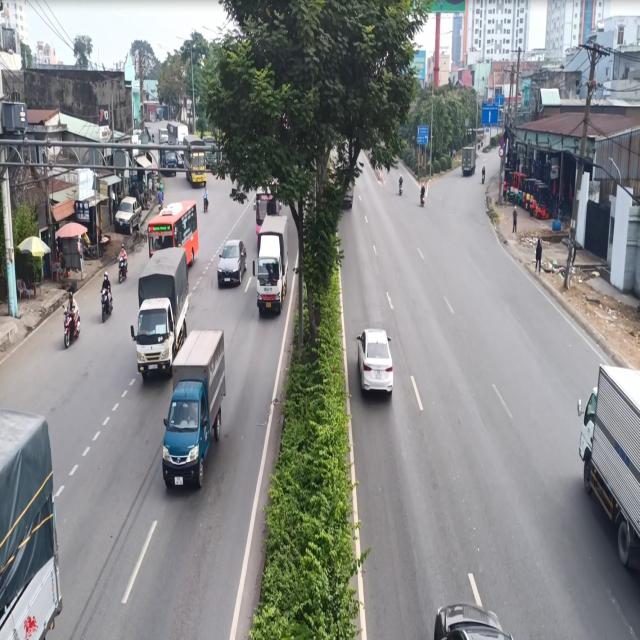bus: (149, 199, 201, 248)
car: (354, 316, 400, 412), (215, 229, 248, 292)
motor: (58, 282, 80, 347), (96, 266, 114, 320), (116, 244, 132, 286)
truck: (572, 349, 640, 571), (162, 314, 232, 499), (131, 248, 187, 380), (253, 205, 292, 320)
